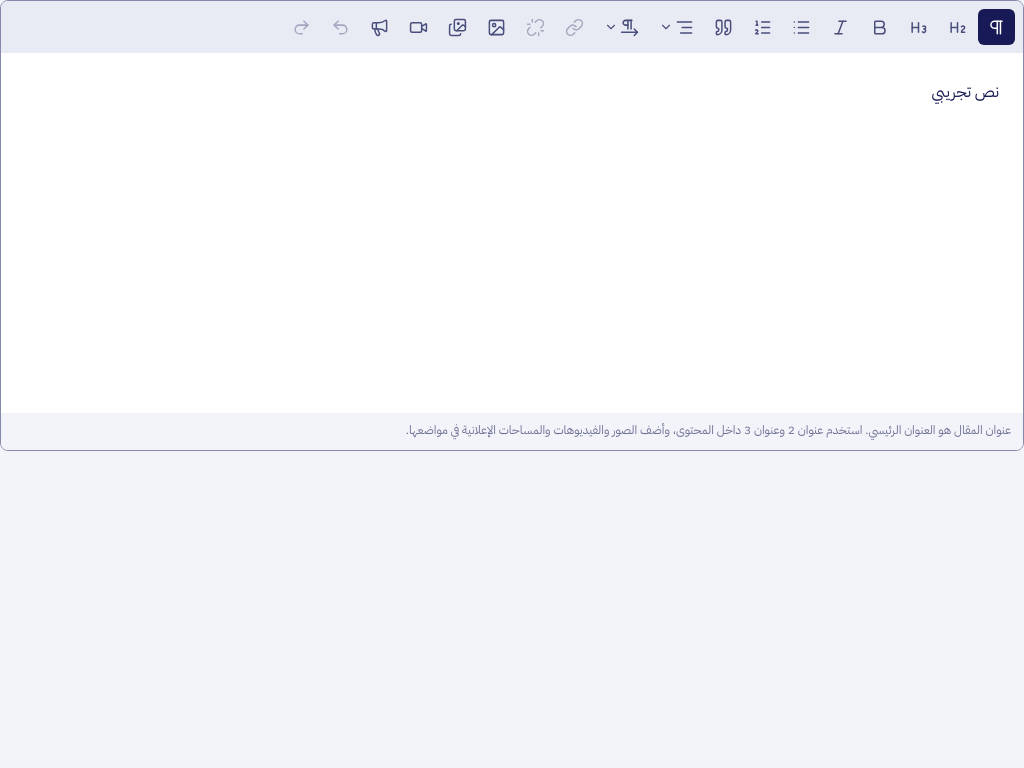
RichTextEditor › restores focus to the exact video control after closing its media dialog
The width and height of the screenshot is (1024, 768).
Click the button named "فيديو".
click(418, 27)  # box left=400, top=9, right=437, bottom=45
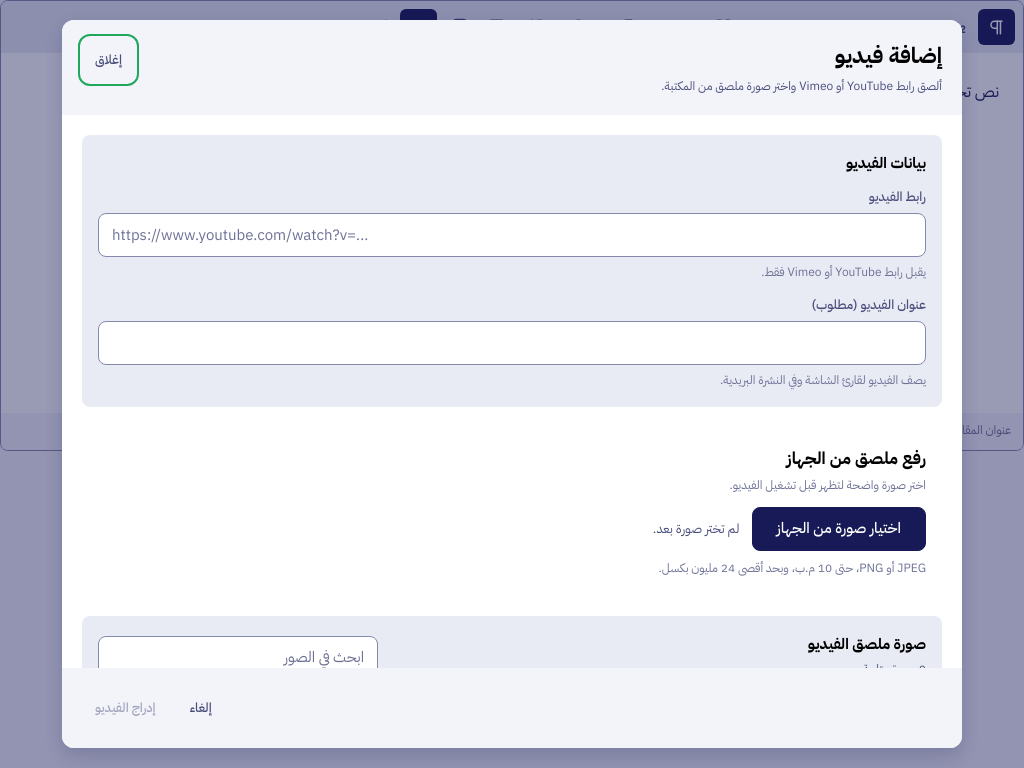
Result: the dialog "إضافة فيديو" is shown
Press Escape
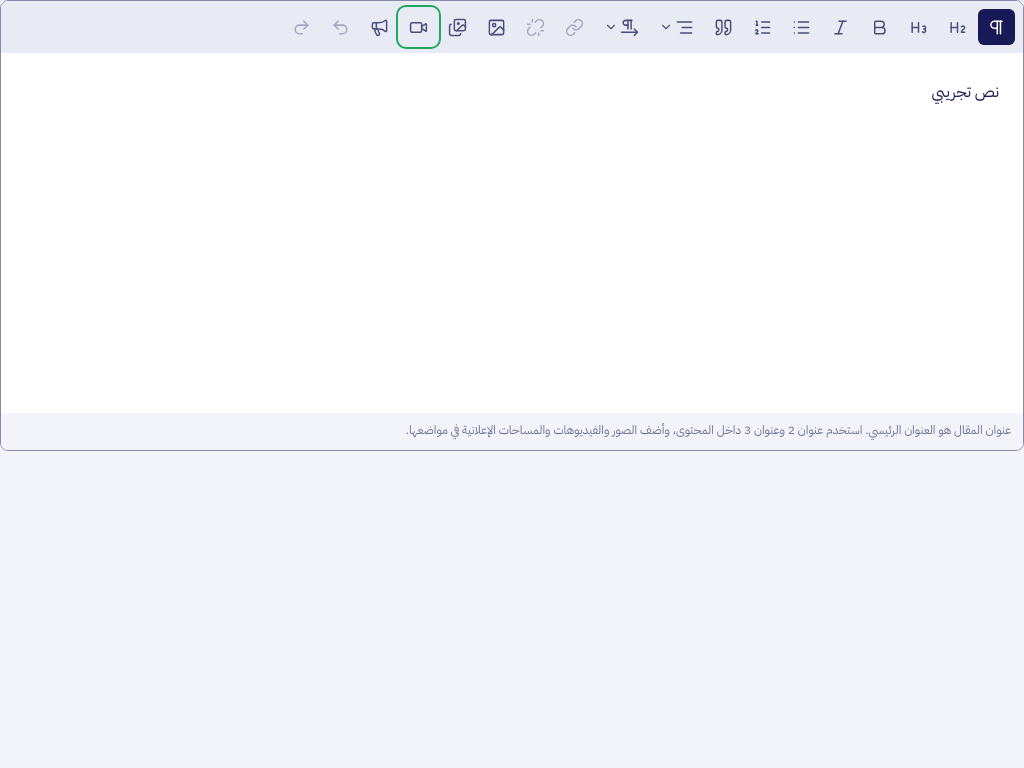
Result: the heading "إضافة فيديو" is gone
